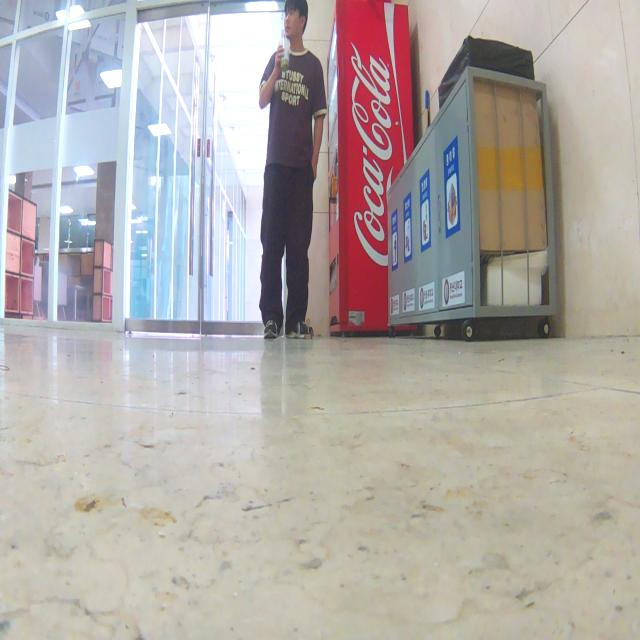target: (306, 317, 313, 341)
